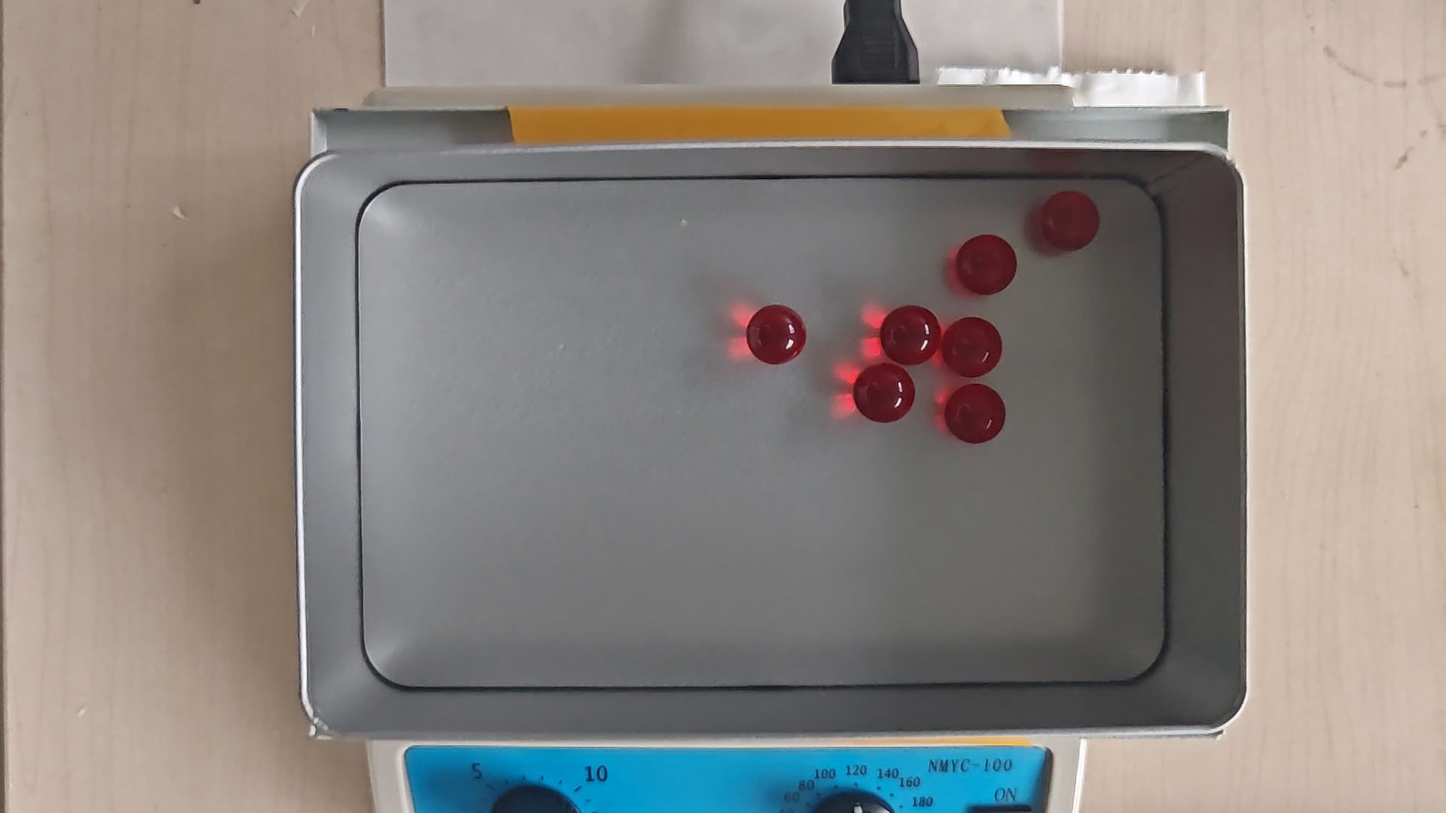ball: (954, 234, 1017, 296), (746, 303, 807, 366), (853, 363, 915, 424), (941, 317, 1002, 378), (880, 303, 940, 365), (945, 384, 1005, 445), (1041, 190, 1099, 252)
container: (357, 179, 1167, 685)
